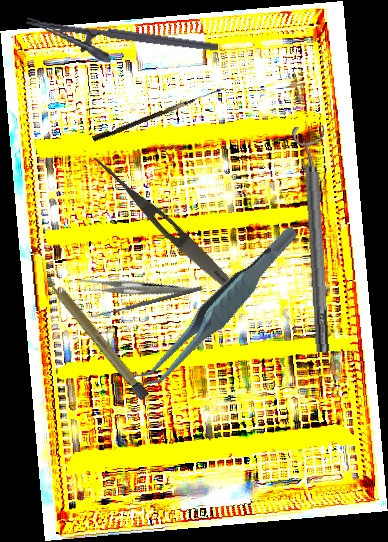Dressing Forceps: (86, 151, 252, 307), (73, 248, 196, 330)
Fixation Ring: (291, 125, 339, 353)
Hook Surgical: (92, 81, 224, 145)
Needle Holder: (22, 15, 219, 79)
Scalpel Handle: (40, 270, 152, 402)
Surgical Spoon: (90, 285, 203, 320)
Tissue Forceps: (110, 224, 325, 394)
